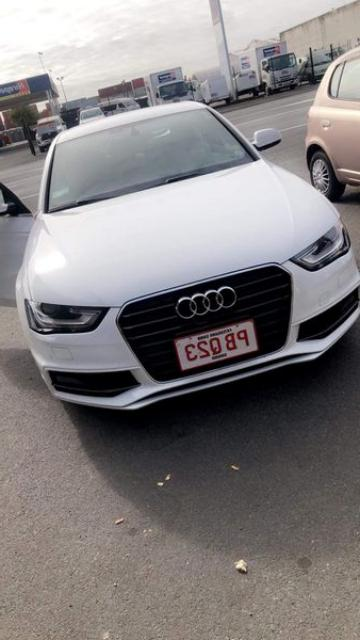Rego: (173, 318, 259, 377)
